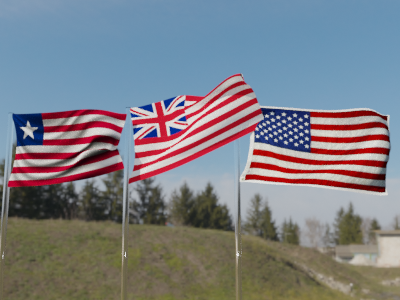America flag: (241, 105, 393, 189)
Liberia flag: (7, 109, 126, 186)
Malaysia flag: (128, 72, 263, 183)
